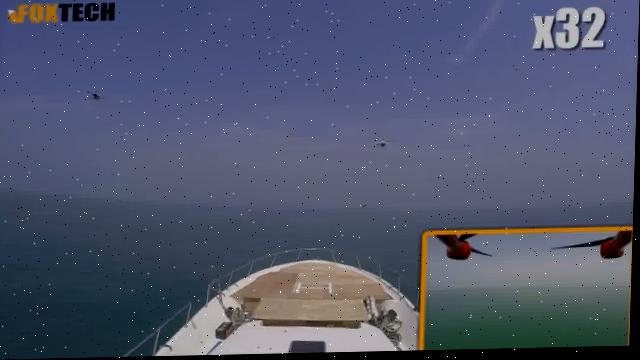drone: (83, 77, 111, 108), (370, 132, 399, 158)
